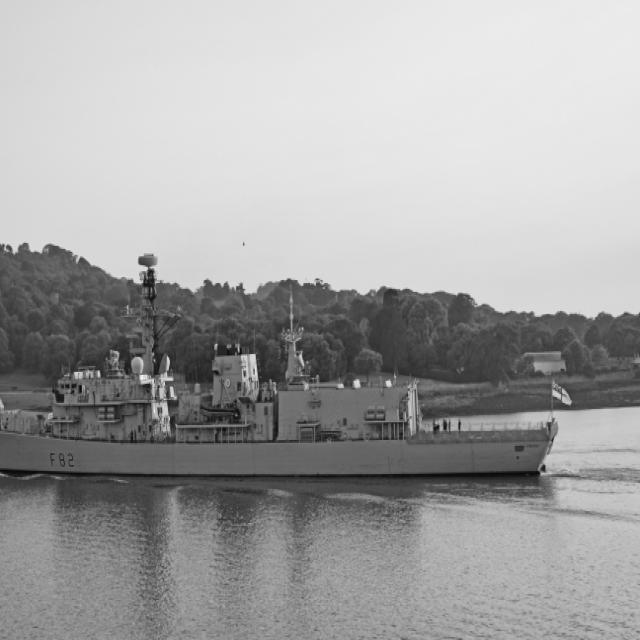Fragata: (1, 225, 567, 484)
